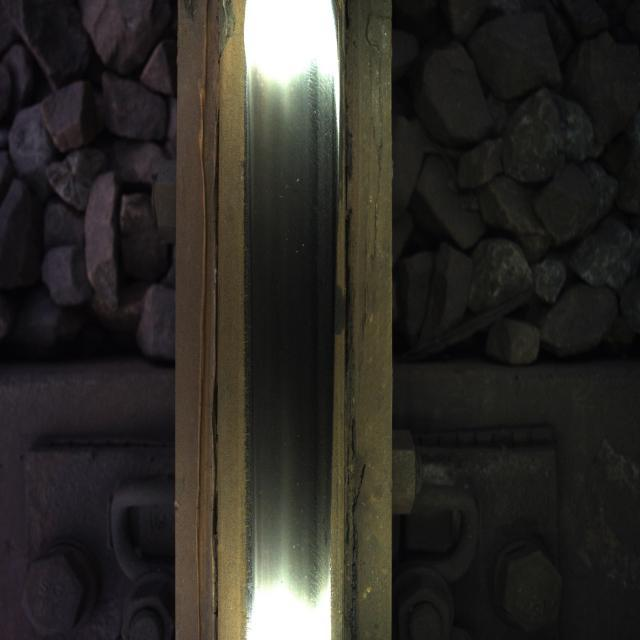break: (246, 28, 325, 608)
